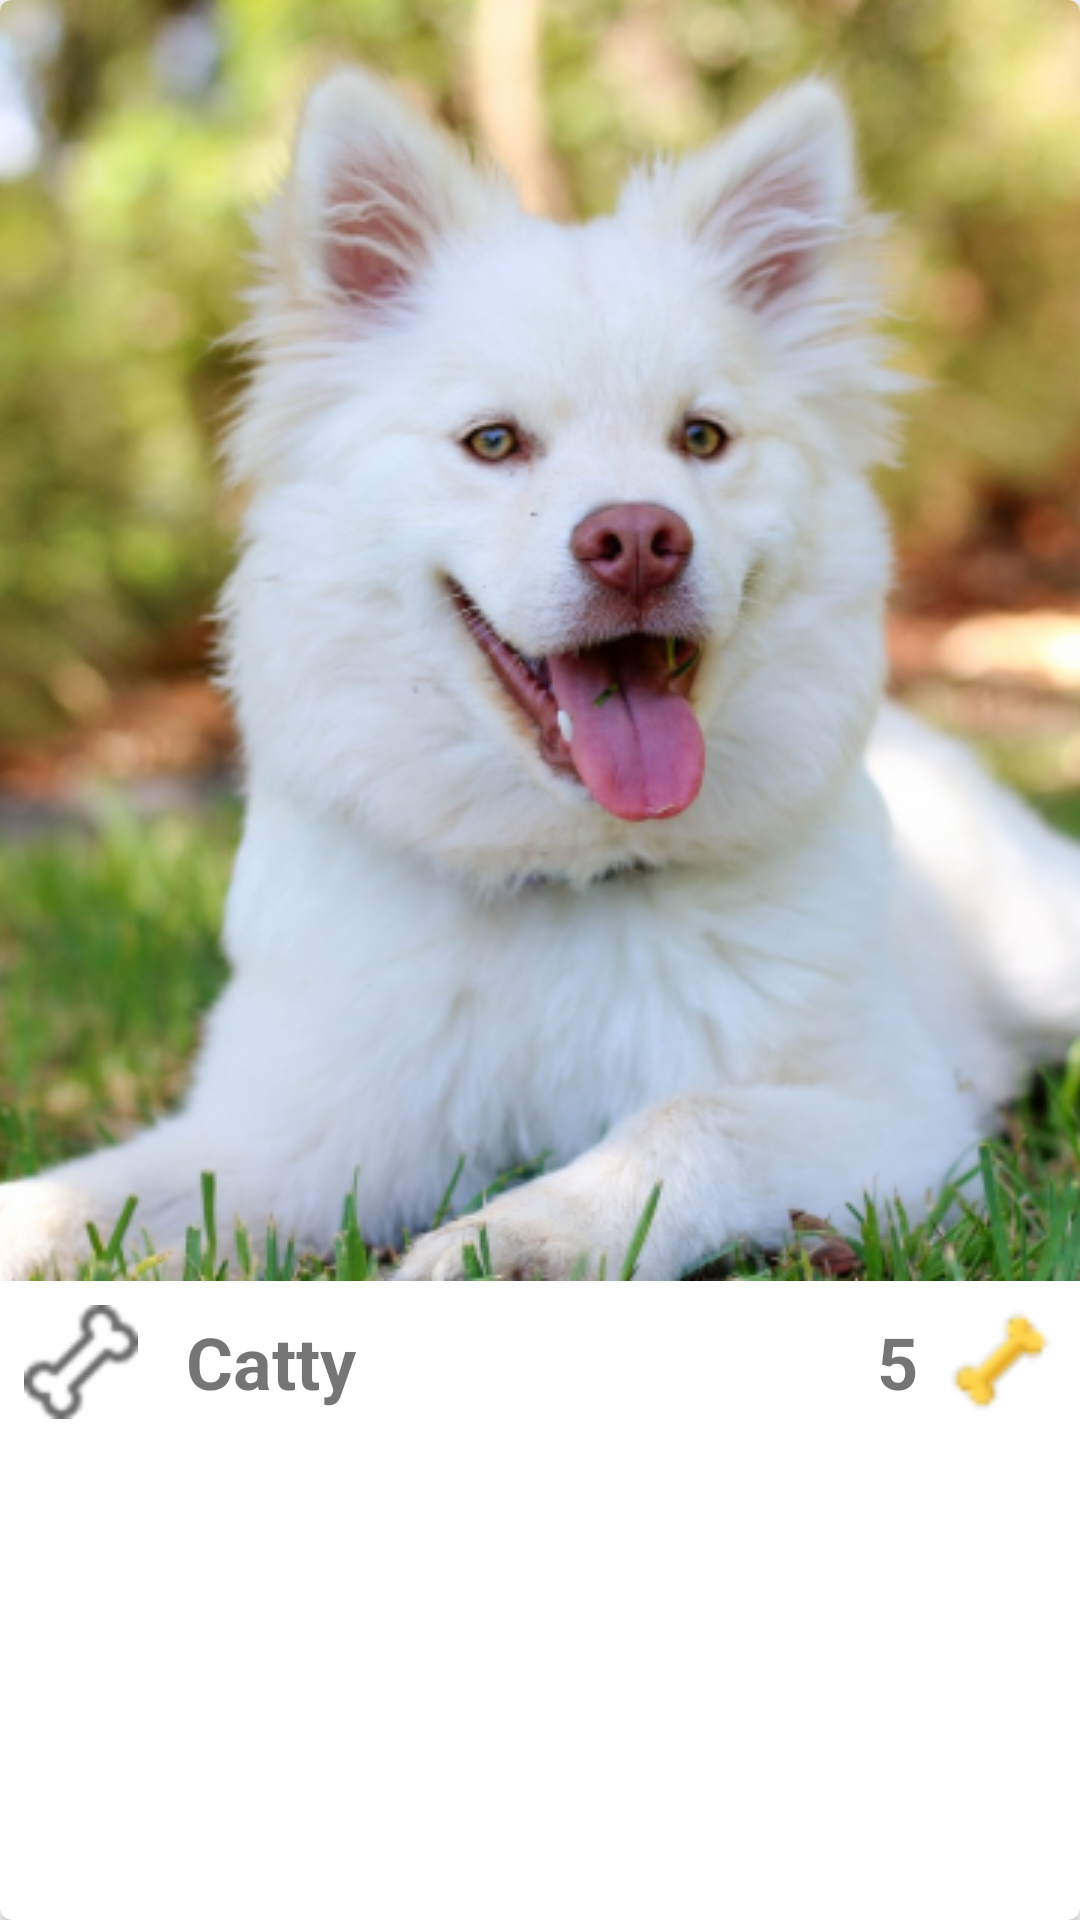

Screen size 1080×1920. Icon name, then its center in pixels as [x,y]:
dog bone: [81,1362], [1001,1360]
